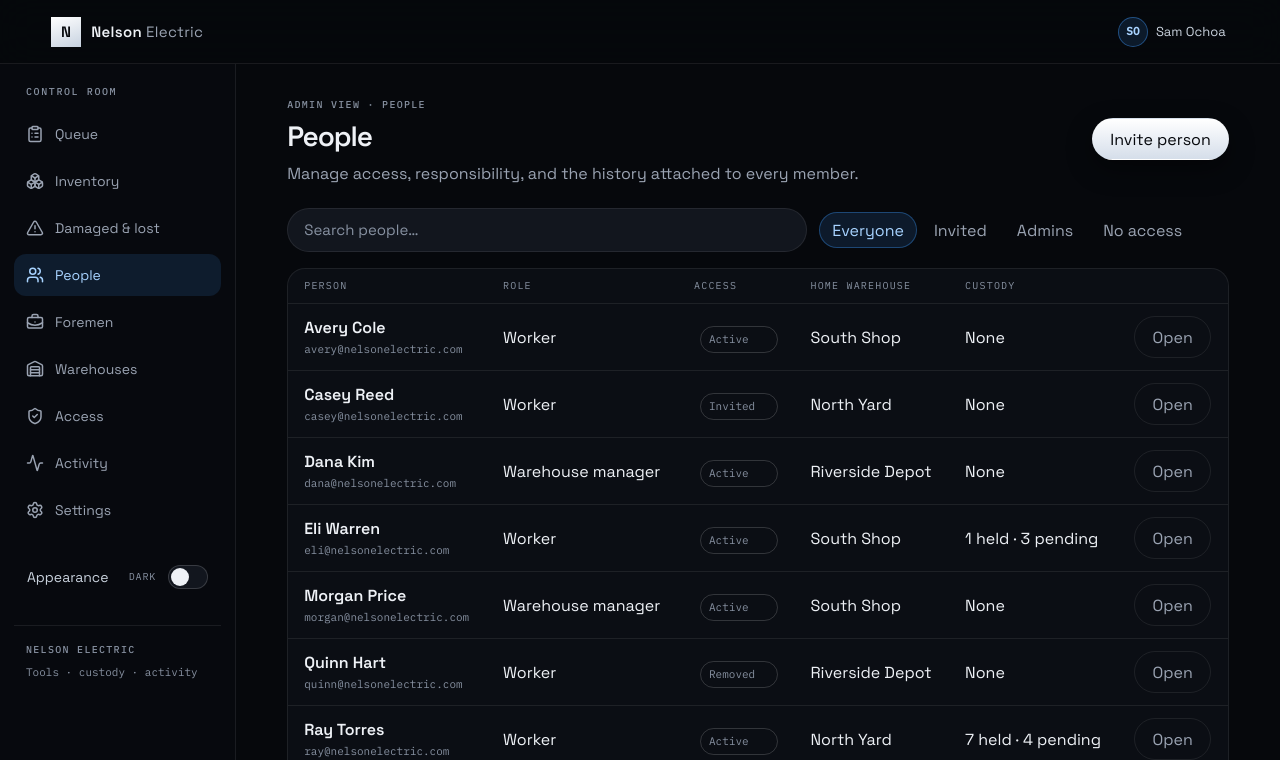
Test case: admin command safety › allows only one in-flight role command and preserves the changed choice
This screenshot has width=1280, height=760.
What coordinates should you click on to do the following:
click the link "Casey Reed"
I would click on:
 (349, 395)
Its box is [304,384,394,405].
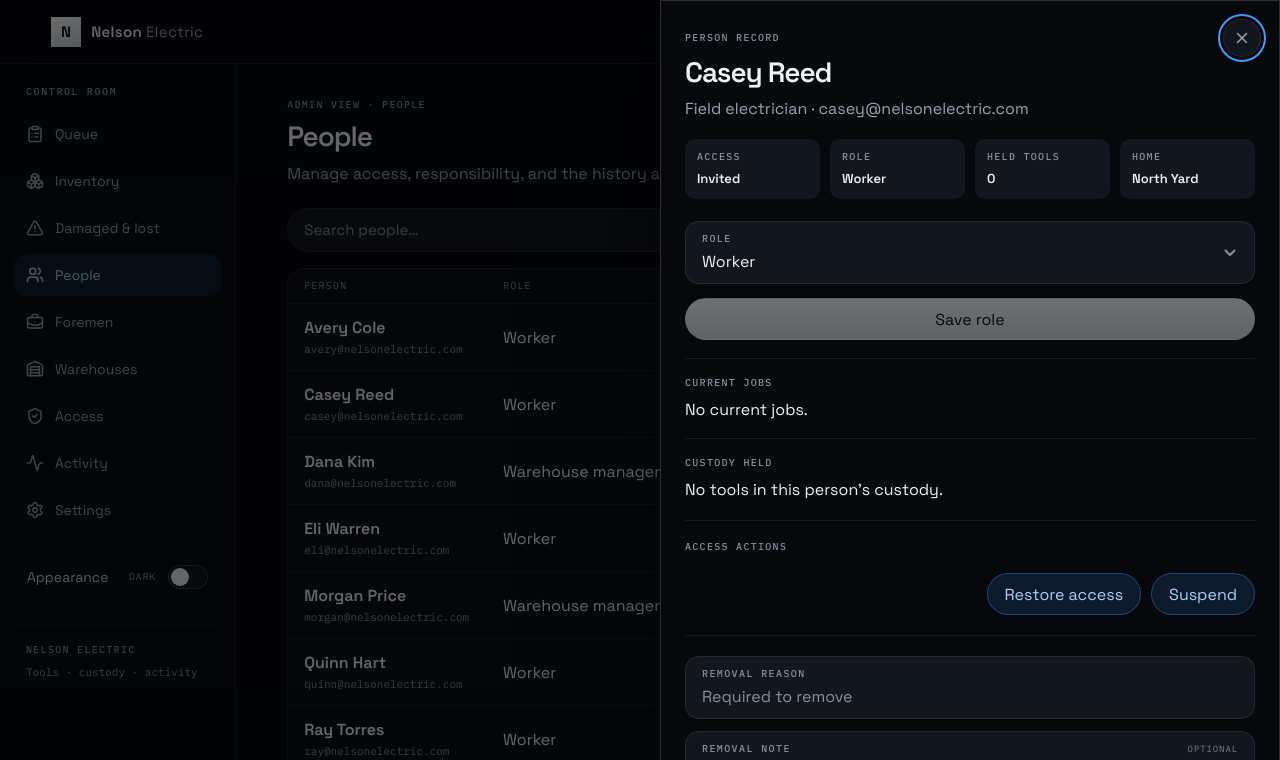
What coordinates should you click on to do the following:
click the dropdown named "Role"
I would click on:
 (729, 262)
Its box is [702,252,1238,271].
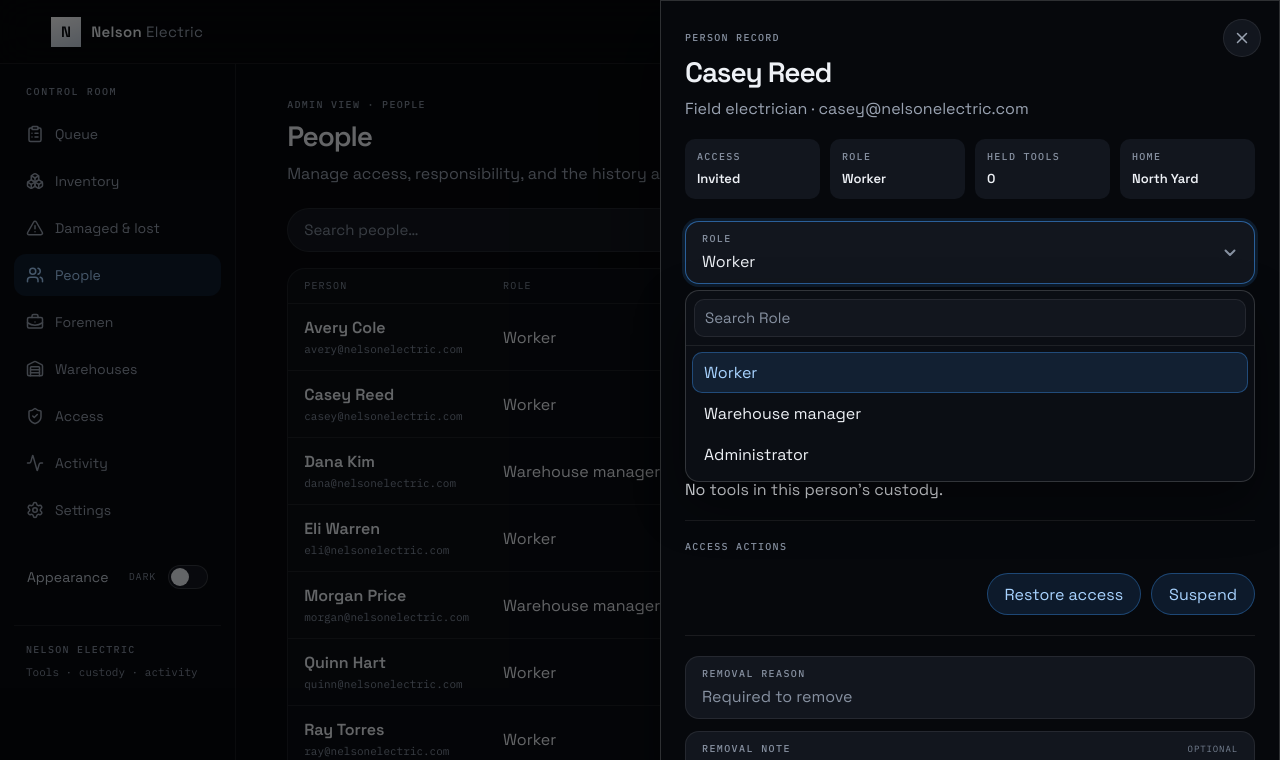
What coordinates should you click on to do the following:
click the option "Warehouse manager"
I would click on:
 (783, 414)
Its box is [704,403,861,424].
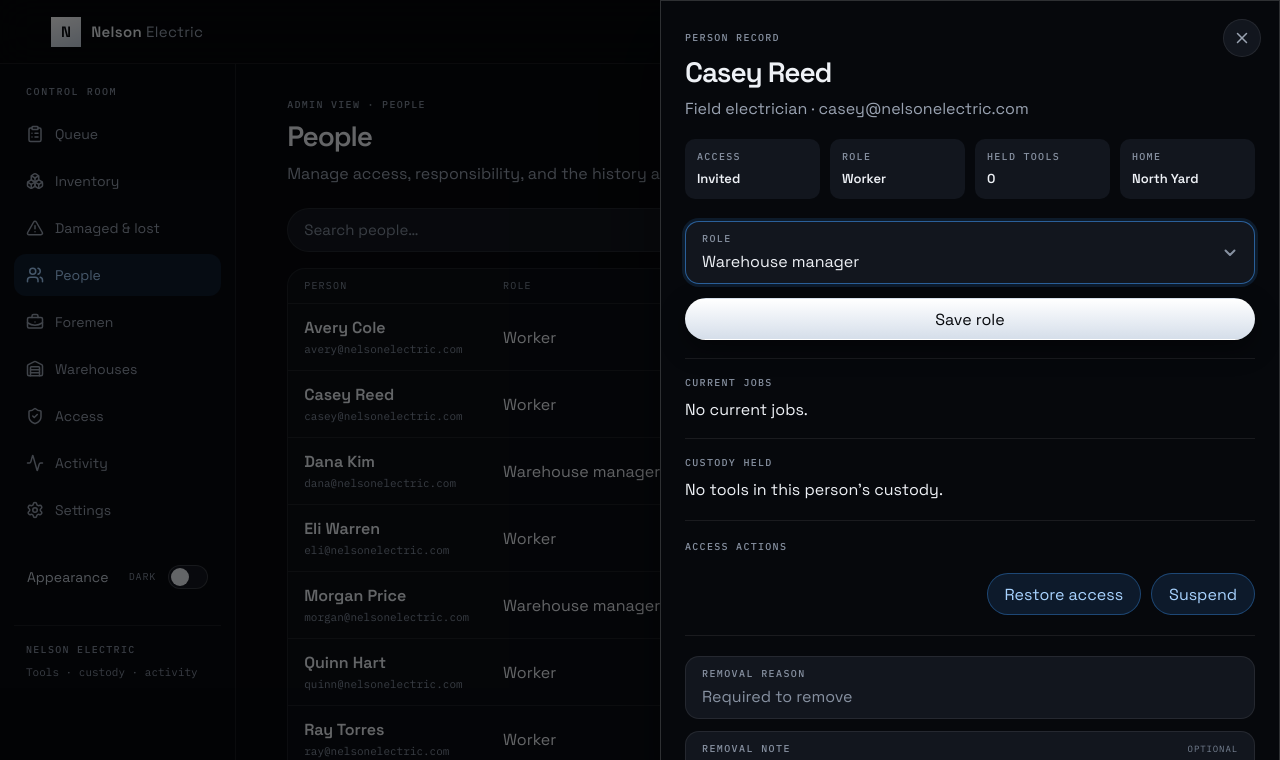
What coordinates should you click on to do the following:
click the button "Save role"
I would click on:
 (970, 319)
Its box is [685,298,1255,340].
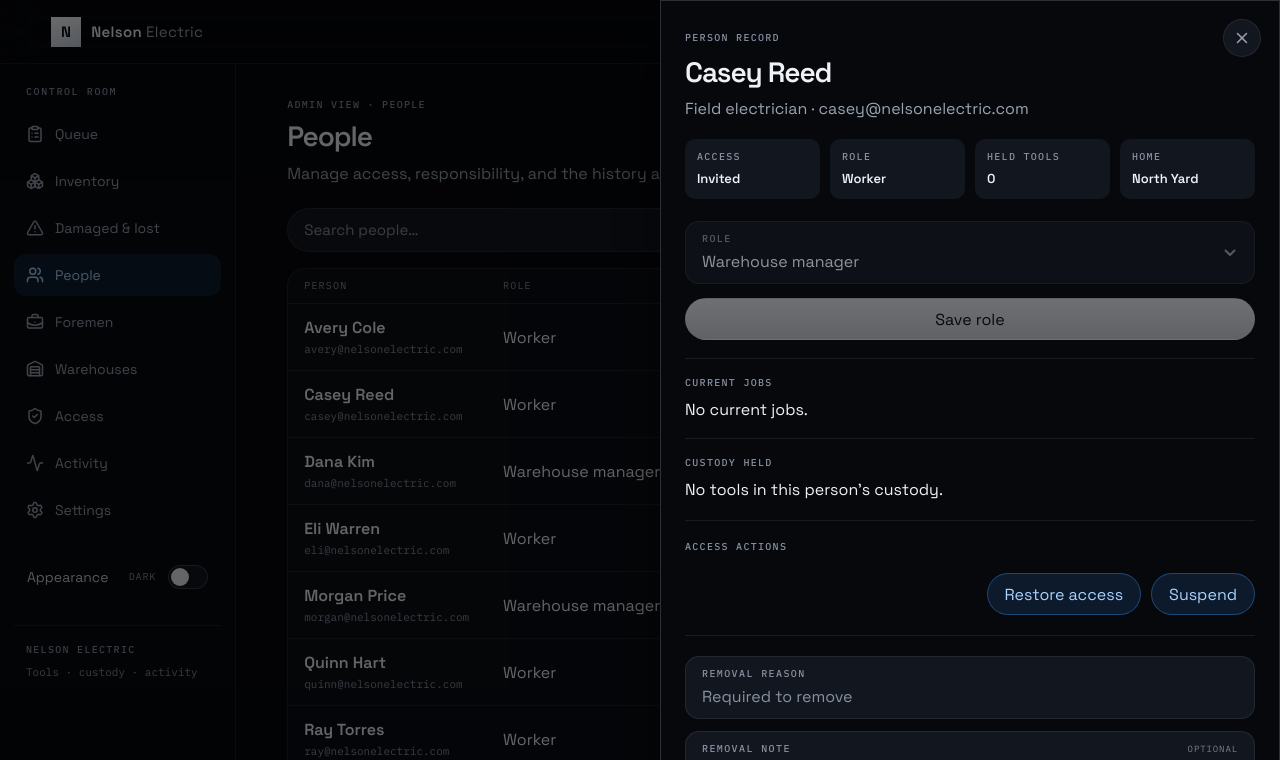
Check: the button "Save role" is disabled
What coordinates should you click on to do the following:
click the button "Save role"
I would click on:
 (970, 319)
Its box is [685,298,1255,340].
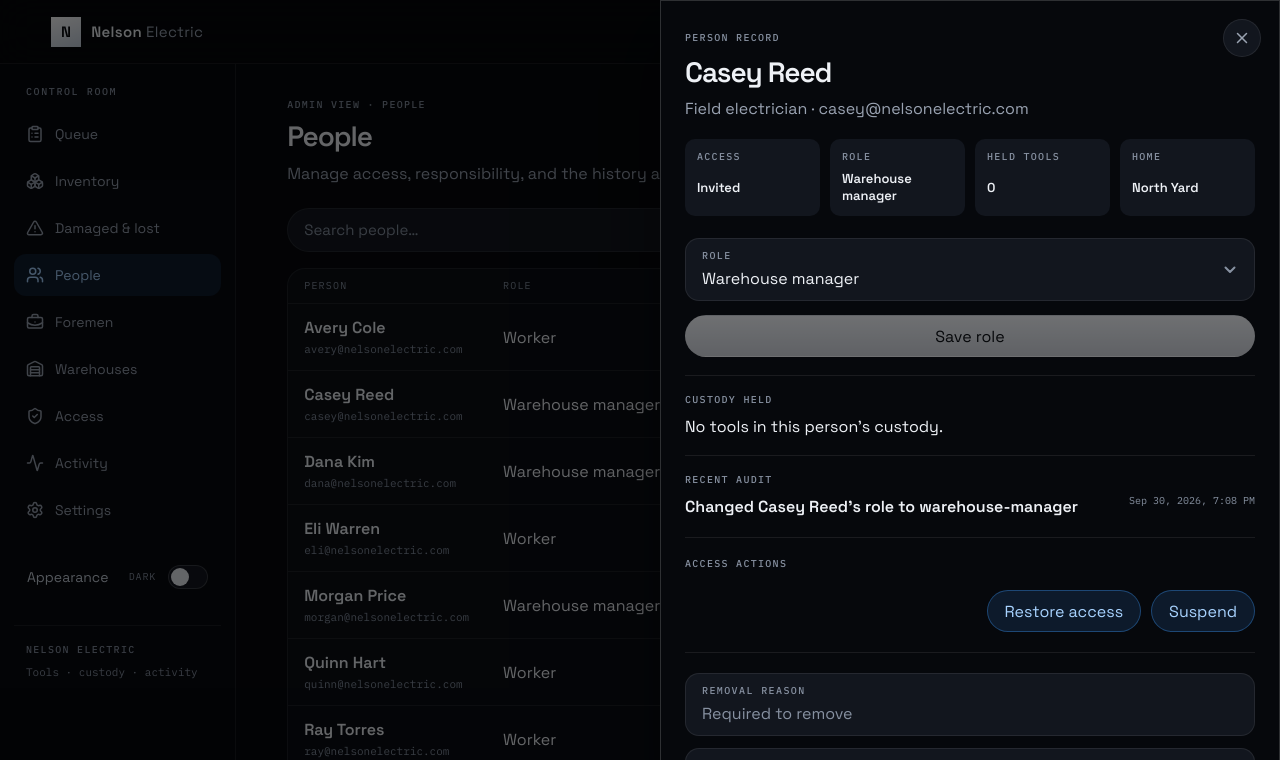
Check: the text "Warehouse manager" below "Held tools" is shown, box [842,170,912,204]
